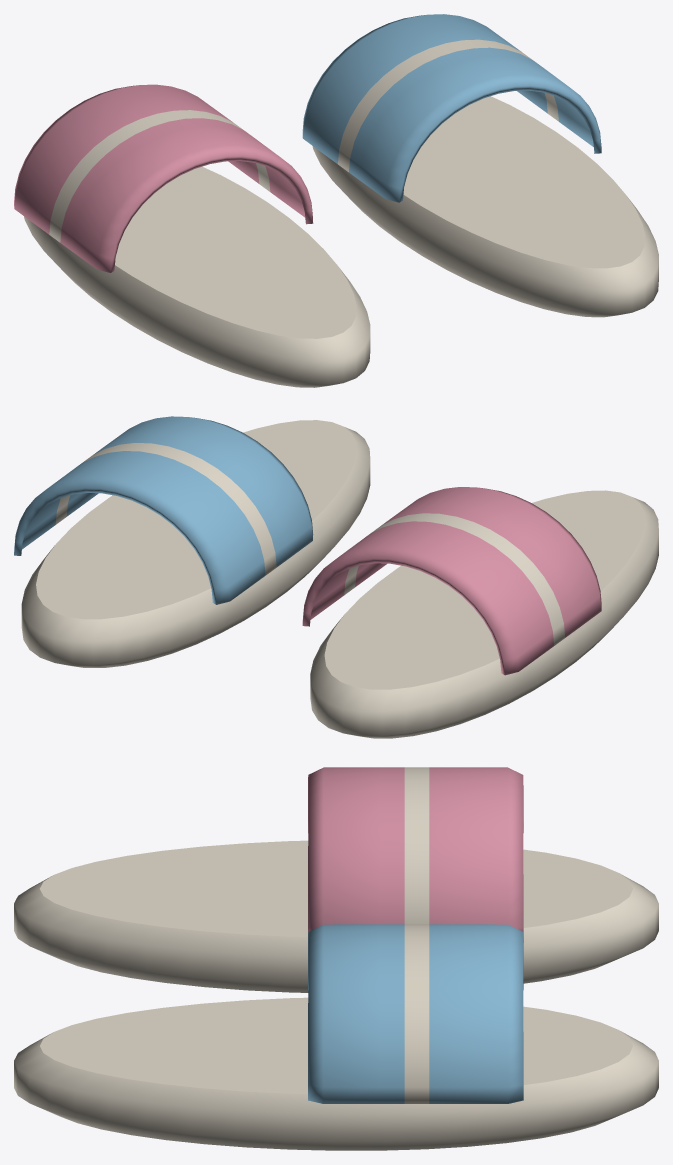
Rendered from lm_slippers.glb.
The picture shows the model from 3 angles, top to bottom: view 1: azimuth 30°, elevation 25°; view 2: azimuth 150°, elevation 25°; view 3: azimuth 270°, elevation 25°; orthographic projection. The views are drawn at different scales.
Visible parts, largest first — view 1: prop; view 2: prop; view 3: prop.
Boxes of the visible parts, x1=… form: prop: x1=14, y1=14, x2=658, y2=387; prop: x1=14, y1=416, x2=658, y2=738; prop: x1=14, y1=767, x2=658, y2=1150.
Size of the model in its own units: 0.238 by 0.066 by 0.236.
